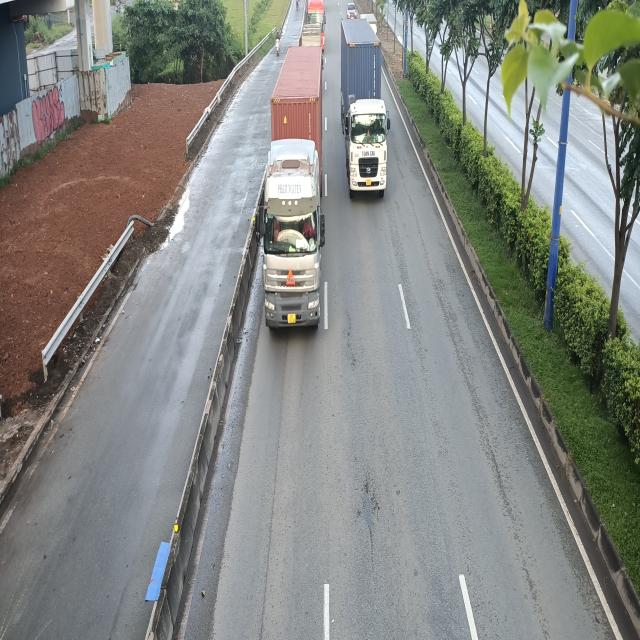container: (254, 43, 325, 333), (340, 17, 391, 195)
